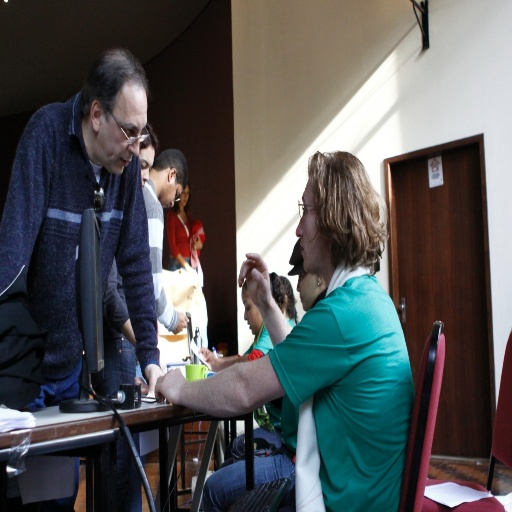hand: (233, 270, 281, 341), (152, 366, 189, 406), (143, 364, 165, 395), (172, 309, 190, 337), (196, 346, 216, 360), (133, 376, 148, 393), (209, 357, 224, 373), (192, 234, 202, 250), (183, 261, 192, 270)
